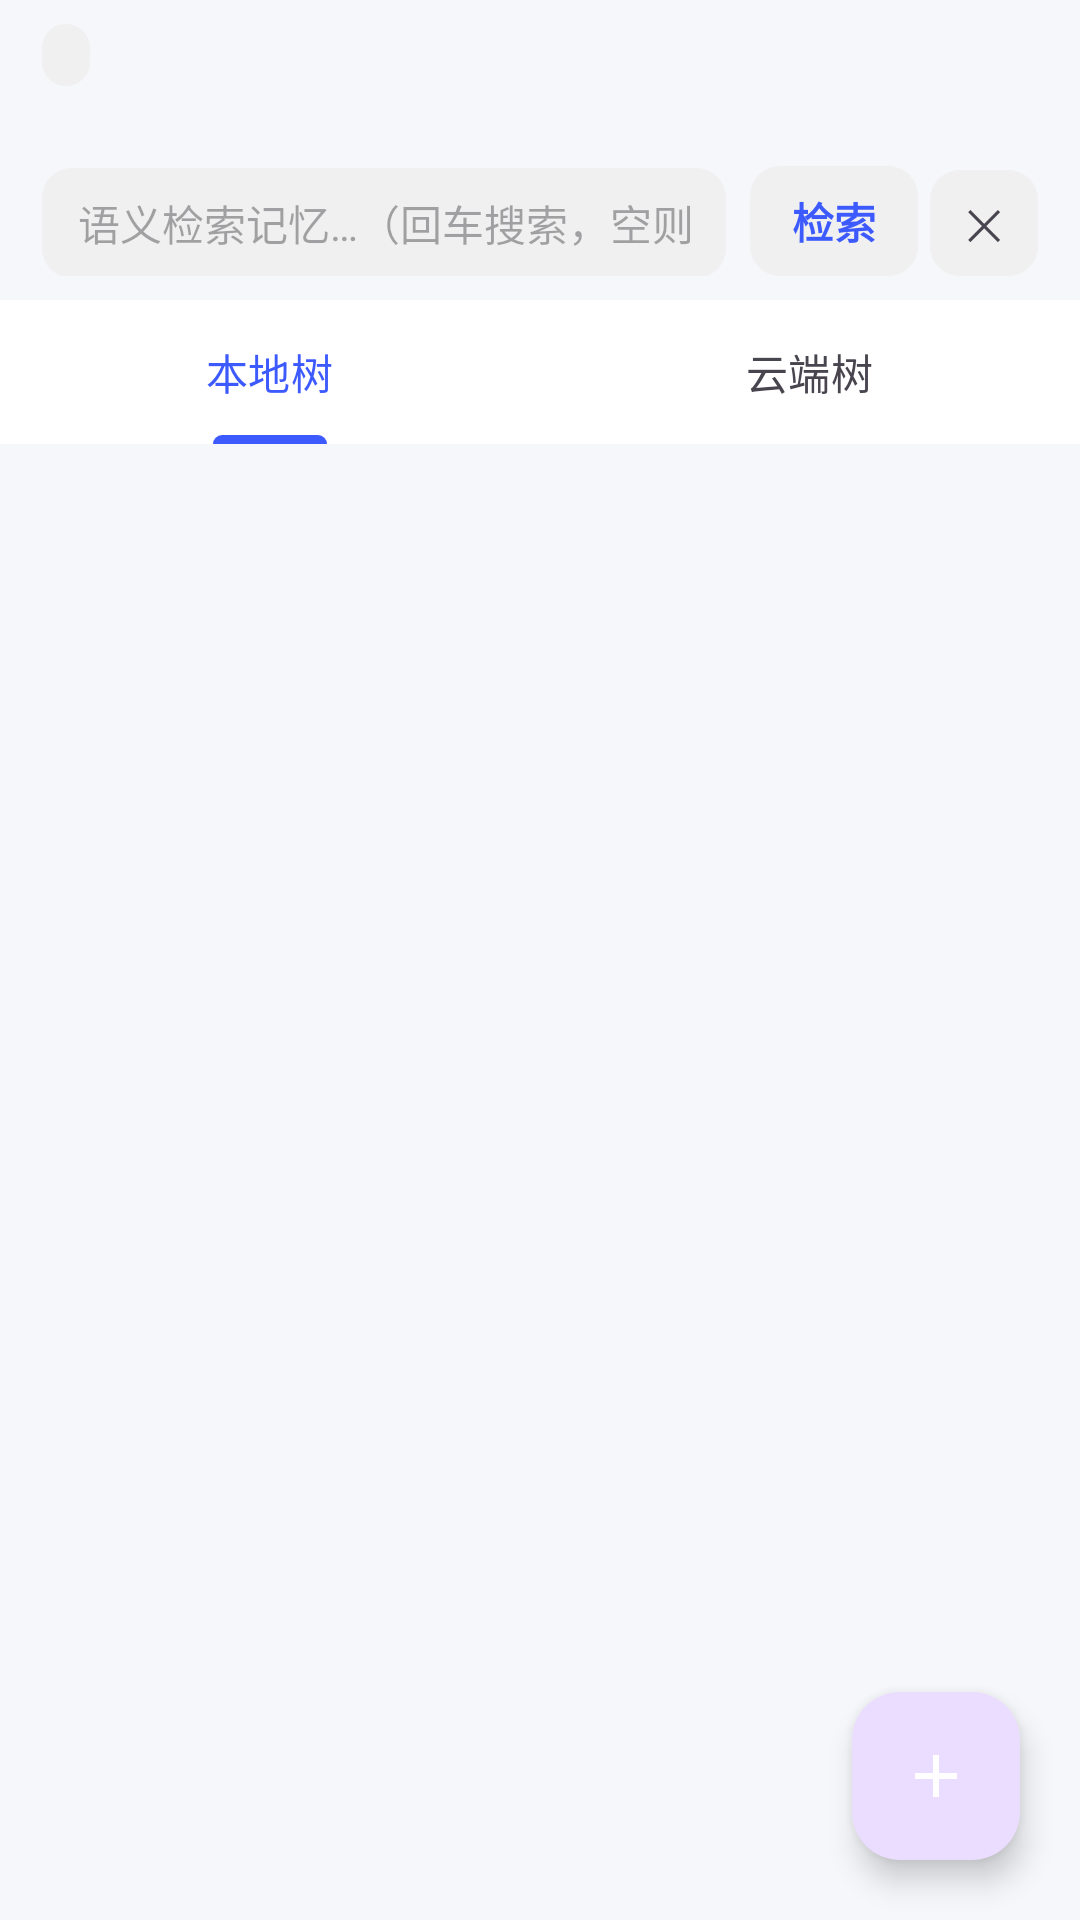

Named icons in this screenshot (1080x1920) and their centers, (x=x, y=y):
添加记忆: (x=936, y=1776)
